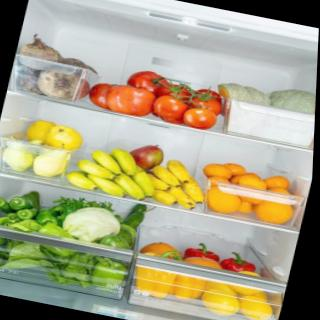fruit: (200, 183, 249, 220), (126, 140, 173, 173), (41, 122, 85, 154), (204, 161, 233, 180)
